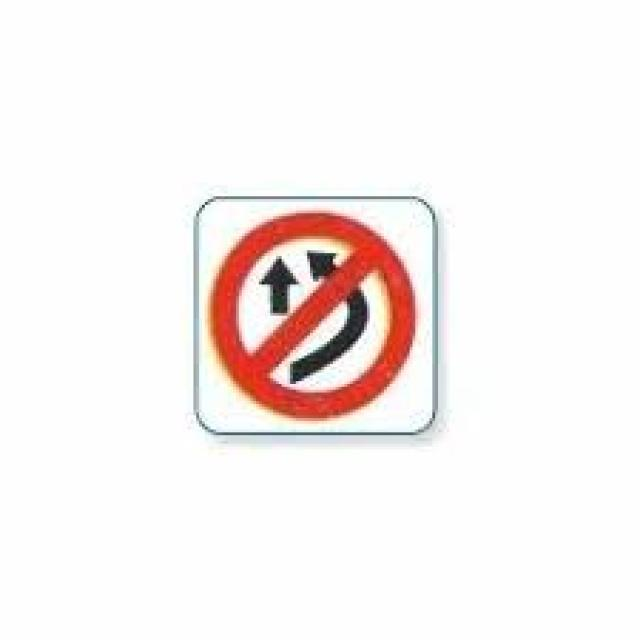overtaking prohibited: (202, 207, 424, 421)
